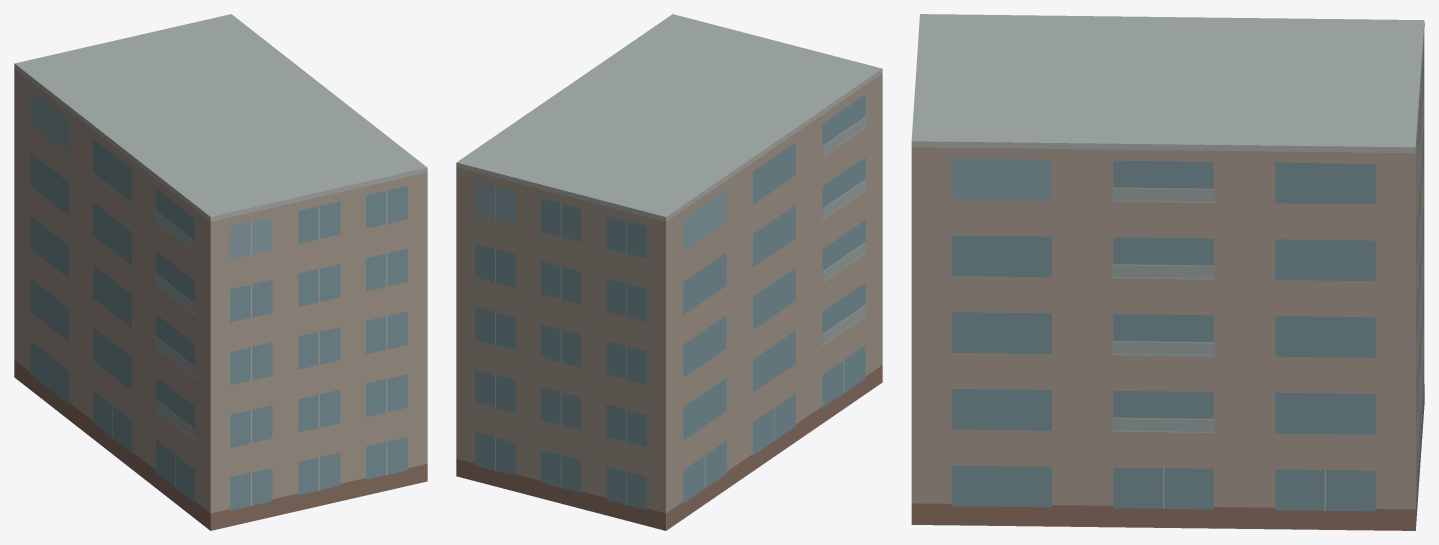
The model's file is survey-upis-32903025.glb.
The picture shows the model from 3 angles, left to right: view 1: azimuth 30°, elevation 25°; view 2: azimuth 150°, elevation 25°; view 3: azimuth 270°, elevation 25°; orthographic projection. The views are drawn at different scales.
Parts seen in each view (by area): view 1: survey-upis-32903025.tmp; view 2: survey-upis-32903025.tmp; view 3: survey-upis-32903025.tmp.
Part boxes in pixels (left/top/right/bottom): survey-upis-32903025.tmp: left=14, top=14, right=427, bottom=530; survey-upis-32903025.tmp: left=456, top=14, right=882, bottom=530; survey-upis-32903025.tmp: left=911, top=14, right=1424, bottom=530.
Bounding box in the file's own units: 11.79 × 15.8 × 19.16.
